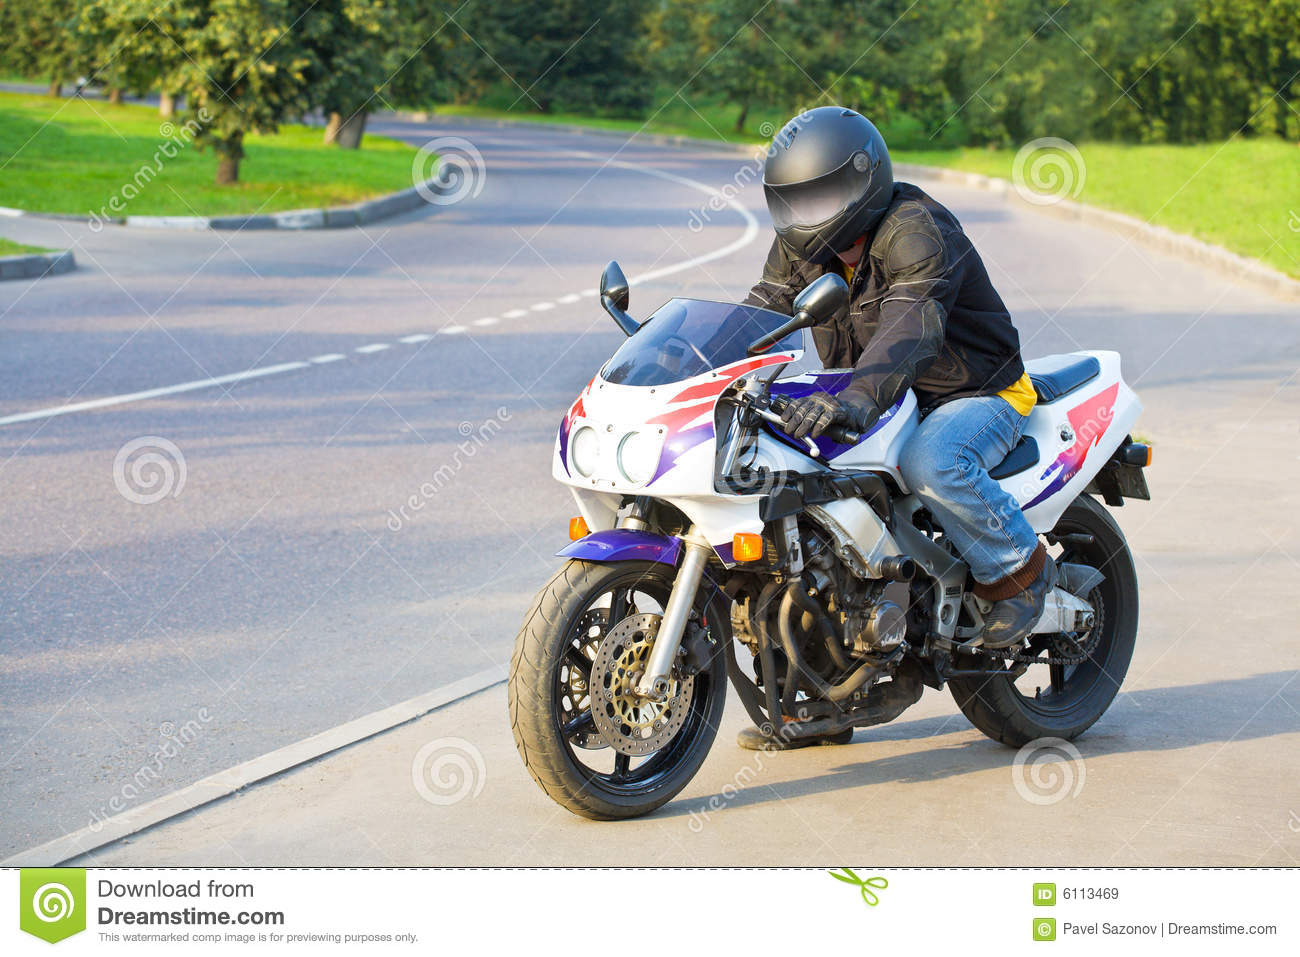helmet: (746, 113, 899, 257)
